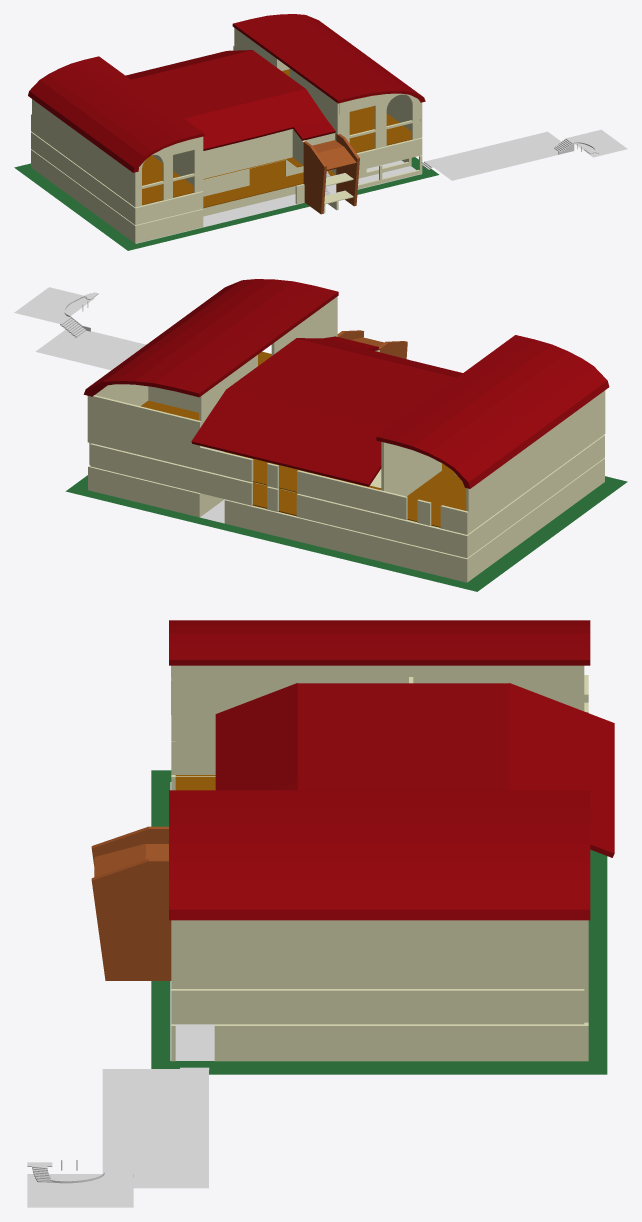
The model's file is Estructura Ing. Informatica.glb.
The picture shows the model from 3 angles, top to bottom: view 1: azimuth 30°, elevation 25°; view 2: azimuth 150°, elevation 25°; view 3: azimuth 270°, elevation 25°; orthographic projection. The views are drawn at different scales.
Visible parts, largest first — view 1: Cilindro, Cilindro.001, Cubo.114, Cubo.117, Plano.001, Plano.002, Cubo.083, Cubo.085, Cubo.095, Cubo.046, Cubo.075, Cubo.027 (+18 smaller); view 2: Cilindro, Cilindro.001, Cubo.114, Cubo.118, Cubo.050, Plano.002, Cubo.087, Cubo.074, Cubo.059, Cubo.046, Cubo.083, Cubo.095 (+15 smaller); view 3: Cilindro.001, Cubo.114, Cilindro, Cubo.091, Cubo.020, Plano.002, Plano.001, Cubo.084, Cubo.118, Cubo.067, Cubo.086, Cubo.120 (+7 smaller).
Part boxes in pixels (x1,y1,x2,y2): Cilindro: (28, 56, 204, 172); Cilindro.001: (232, 14, 425, 103); Cubo.114: (132, 50, 305, 118); Cubo.117: (184, 89, 335, 150); Plano.001: (426, 131, 573, 180); Plano.002: (14, 157, 439, 250); Cubo.083: (142, 69, 411, 205); Cubo.085: (203, 129, 292, 178); Cubo.095: (74, 130, 134, 206); Cubo.046: (31, 149, 137, 243); Cubo.075: (31, 132, 137, 224); Cubo.027: (203, 160, 335, 208); Cilindro: (376, 335, 609, 488); Cilindro.001: (83, 279, 338, 397); Cubo.114: (227, 338, 456, 428); Cubo.118: (191, 389, 386, 486); Cubo.050: (227, 500, 464, 581); Plano.002: (65, 475, 627, 591); Cubo.087: (87, 395, 201, 469); Cubo.074: (296, 493, 465, 557); Cubo.059: (90, 443, 252, 505); Cubo.046: (464, 458, 604, 582); Cubo.083: (141, 351, 466, 527); Cubo.095: (525, 391, 603, 492); Cilindro.001: (169, 790, 590, 920); Cubo.114: (297, 683, 509, 790); Cilindro: (169, 620, 590, 665); Cubo.091: (171, 920, 413, 988); Cubo.020: (219, 1024, 588, 1061); Plano.002: (151, 770, 607, 1074); Plano.001: (102, 1069, 208, 1188); Cubo.084: (413, 920, 584, 988); Cubo.118: (509, 683, 614, 857); Cubo.067: (171, 989, 413, 1024); Cubo.086: (175, 665, 373, 774); Cubo.120: (91, 858, 171, 980).
Bounding box in the file's own units: 356 × 68.81 × 193.
